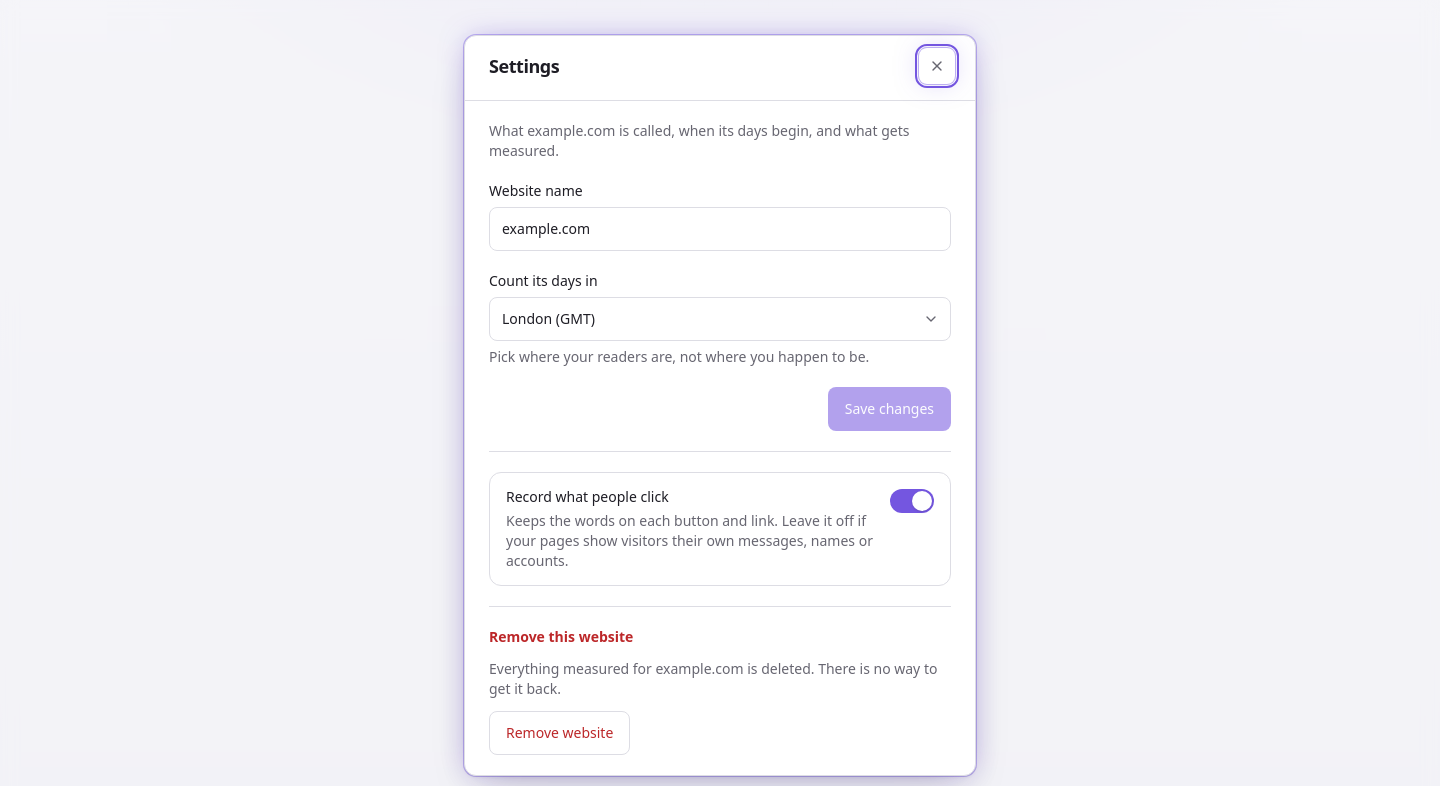
Test: what a website is called and when its days begin › says why a name was refused rather than showing it as saved
The width and height of the screenshot is (1440, 786).
Replace the text in the field labelled "Website name" with "Reader Weekly": (720, 228) [489,206,951,250]
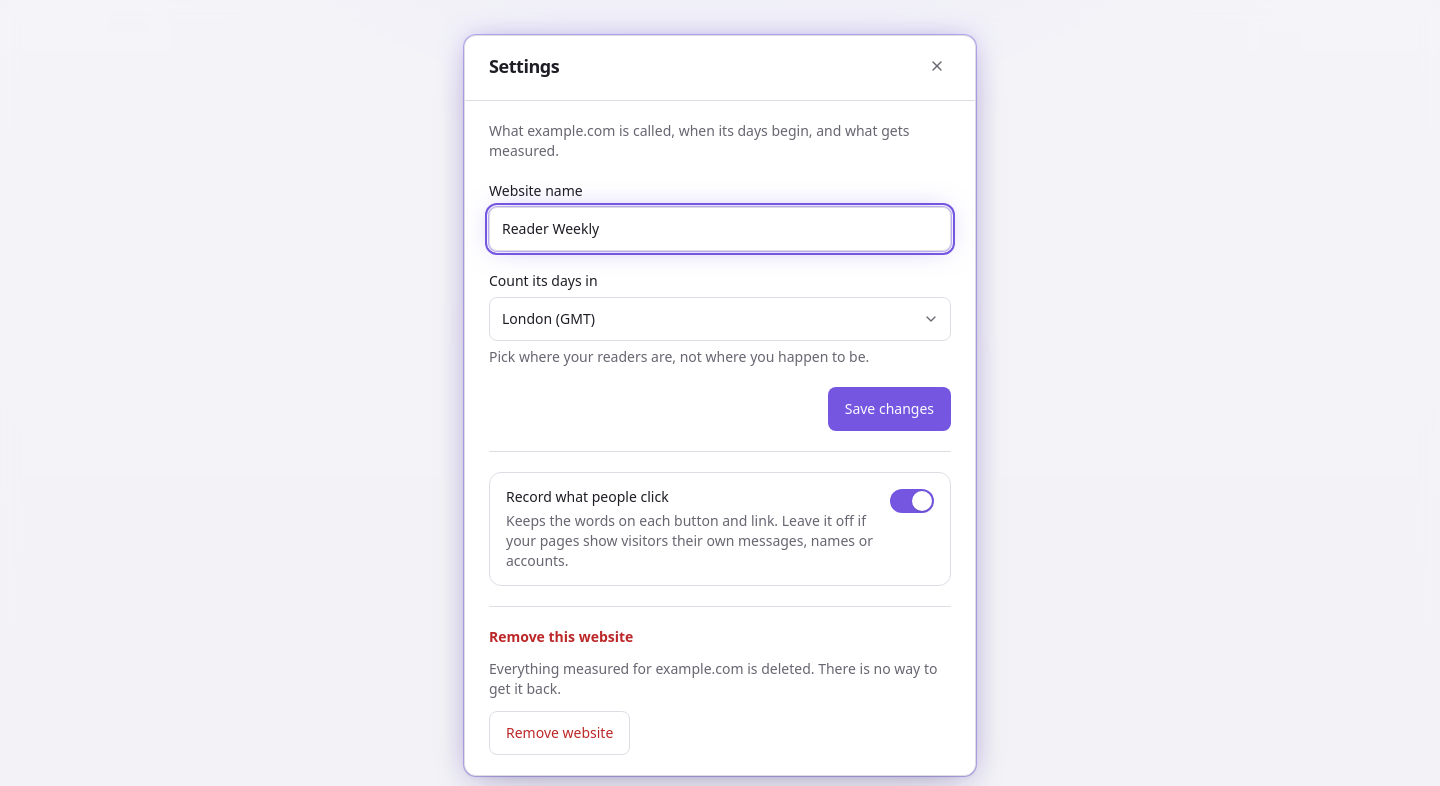
Click the button "Save changes": (889, 408) [828,386,951,430]
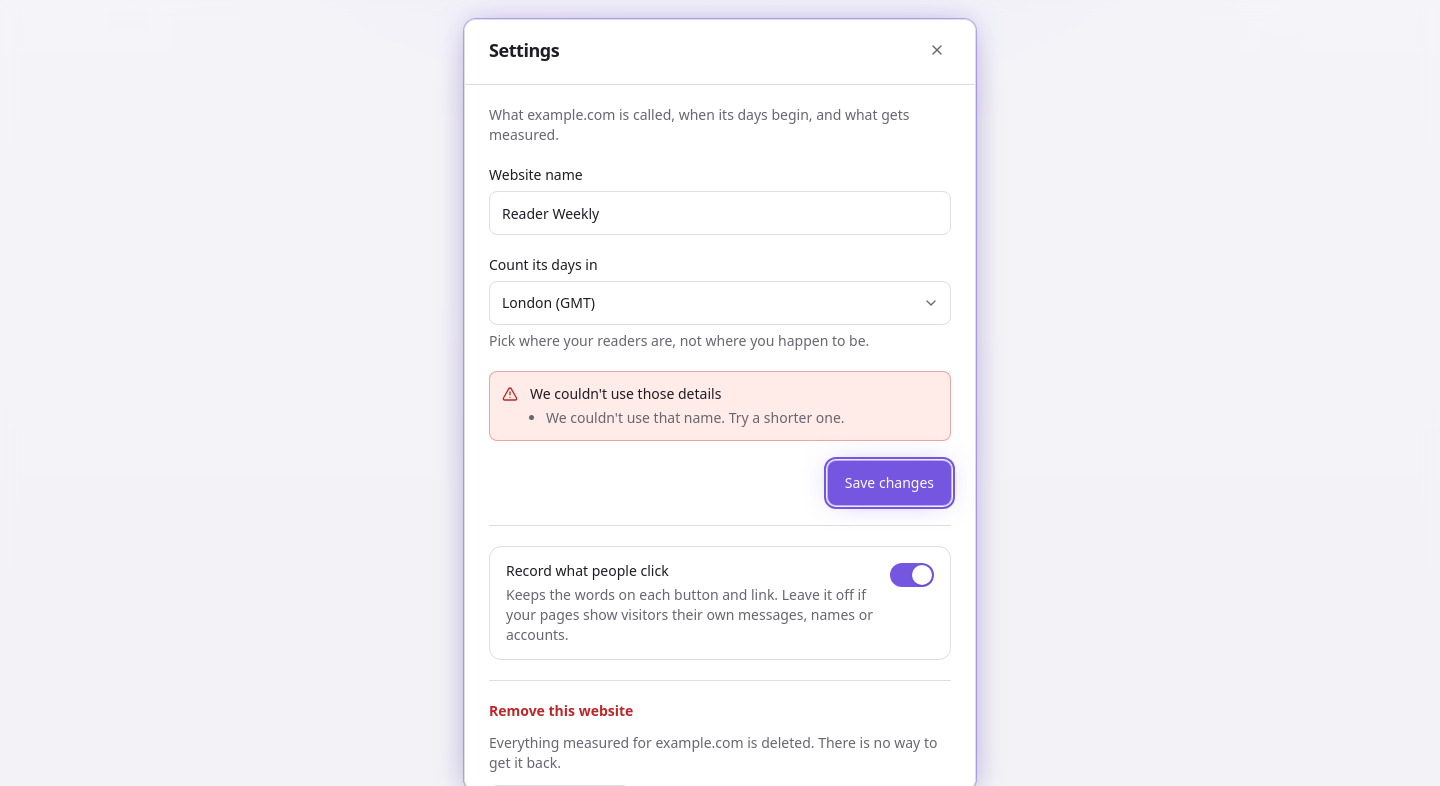
Expected: the list item "We couldn't use that name. Try a shorter one." is shown, [546,408,845,428]
